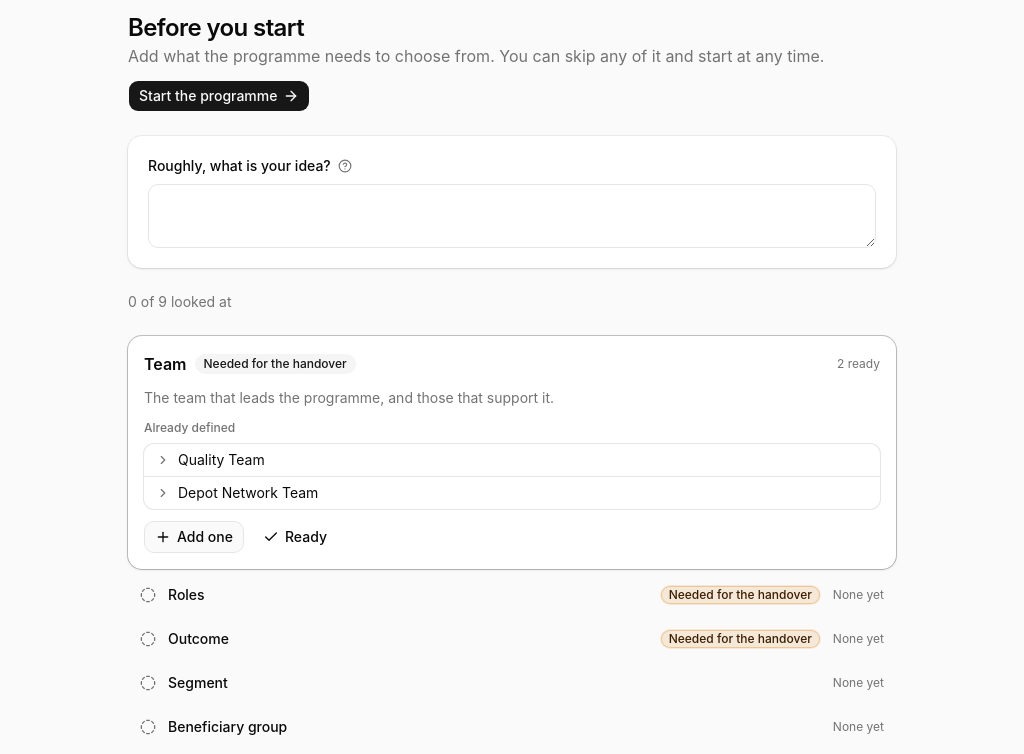
Scenario: what is already defined › lists the existing ones, and shows one in place
The width and height of the screenshot is (1024, 754).
Expected: the text "Depot Network Team" is shown, [178, 484, 318, 501]
Click the button "Quality Team".
click(221, 460)  # box [144, 444, 880, 476]
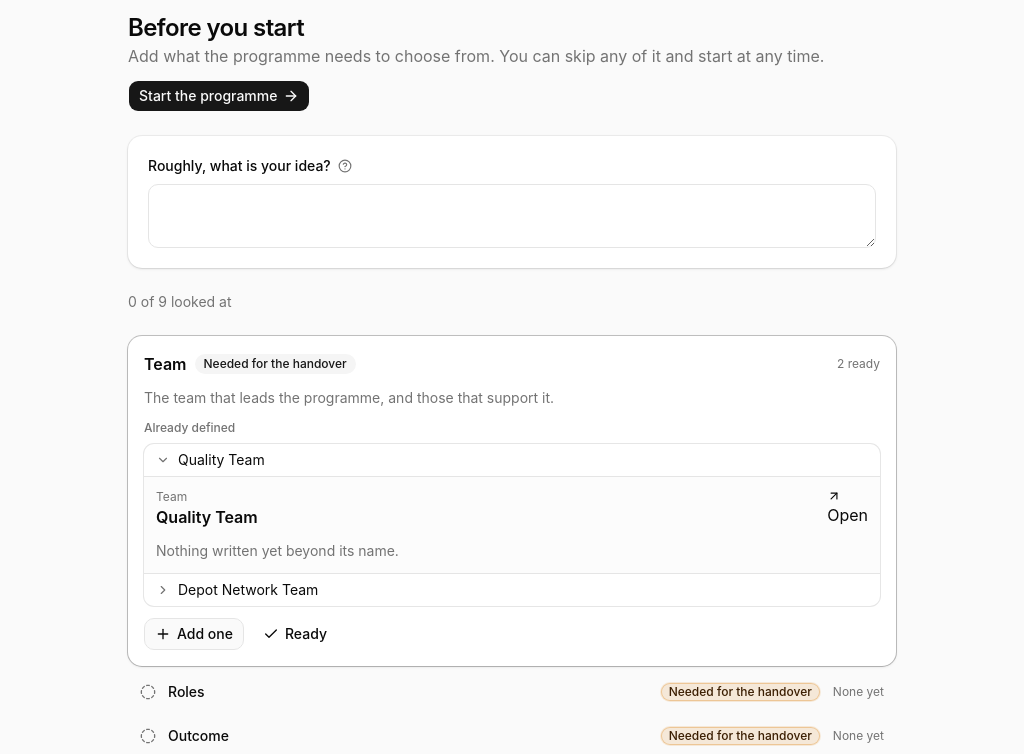
Now the button "Quality Team" is expanded, box [144, 444, 880, 476]
